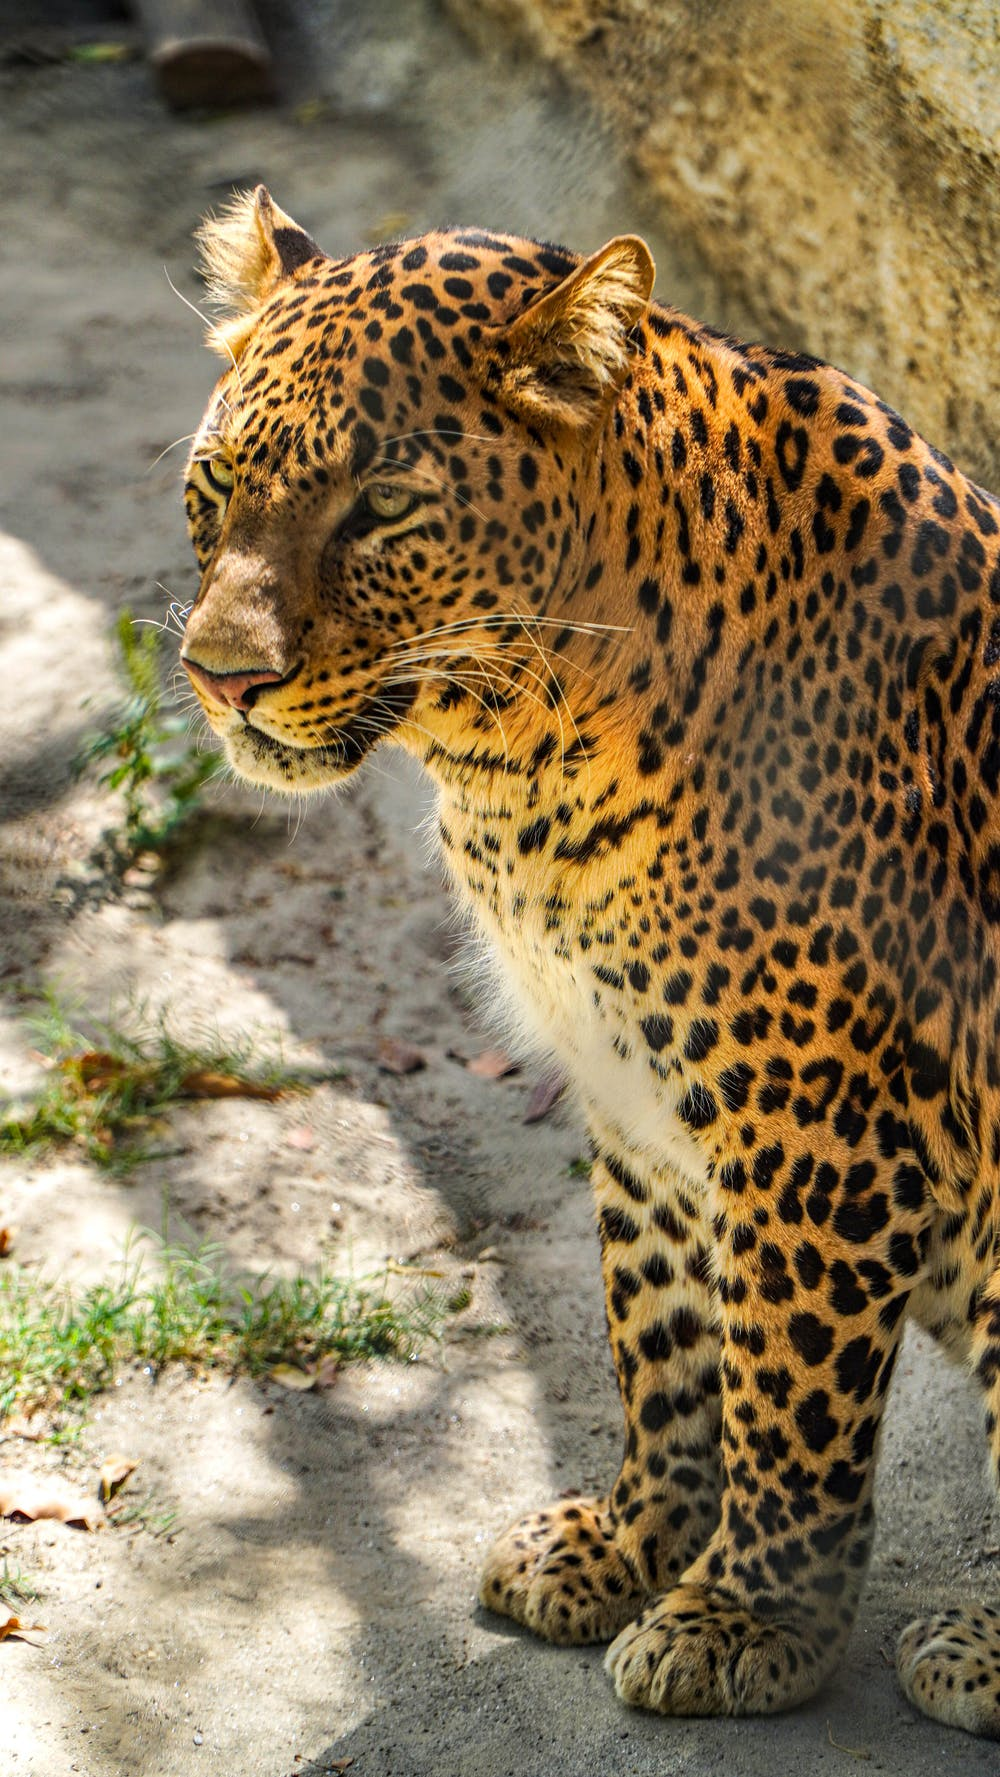cheetah: (123, 124, 711, 814)
